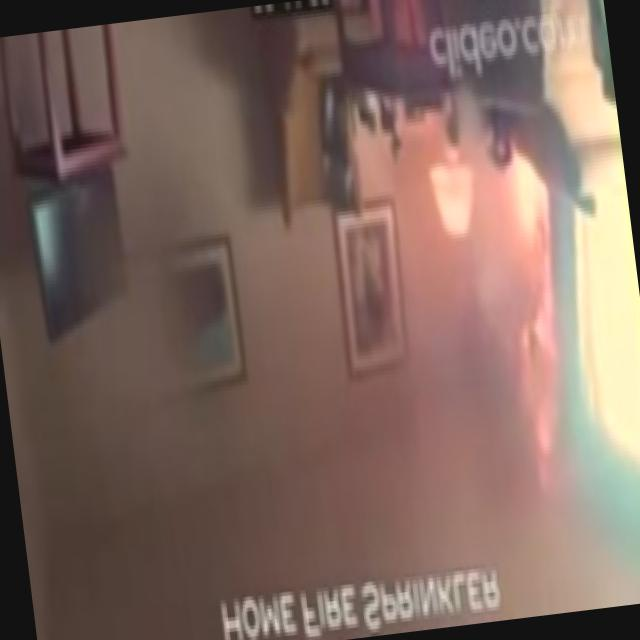fire: (466, 140, 598, 518)
